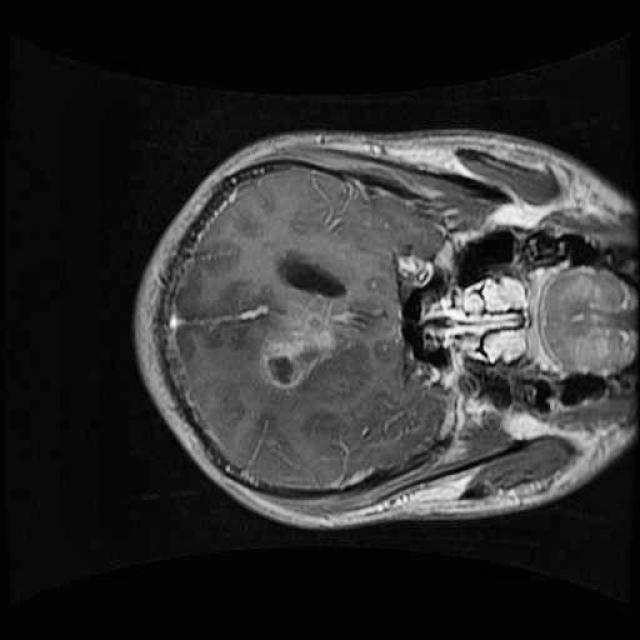Tumor: (242, 288, 357, 404)
